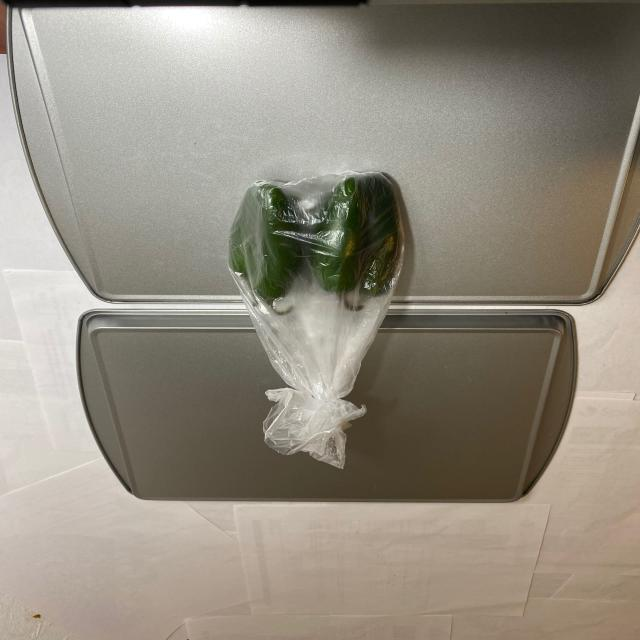chilli: (220, 171, 414, 331)
